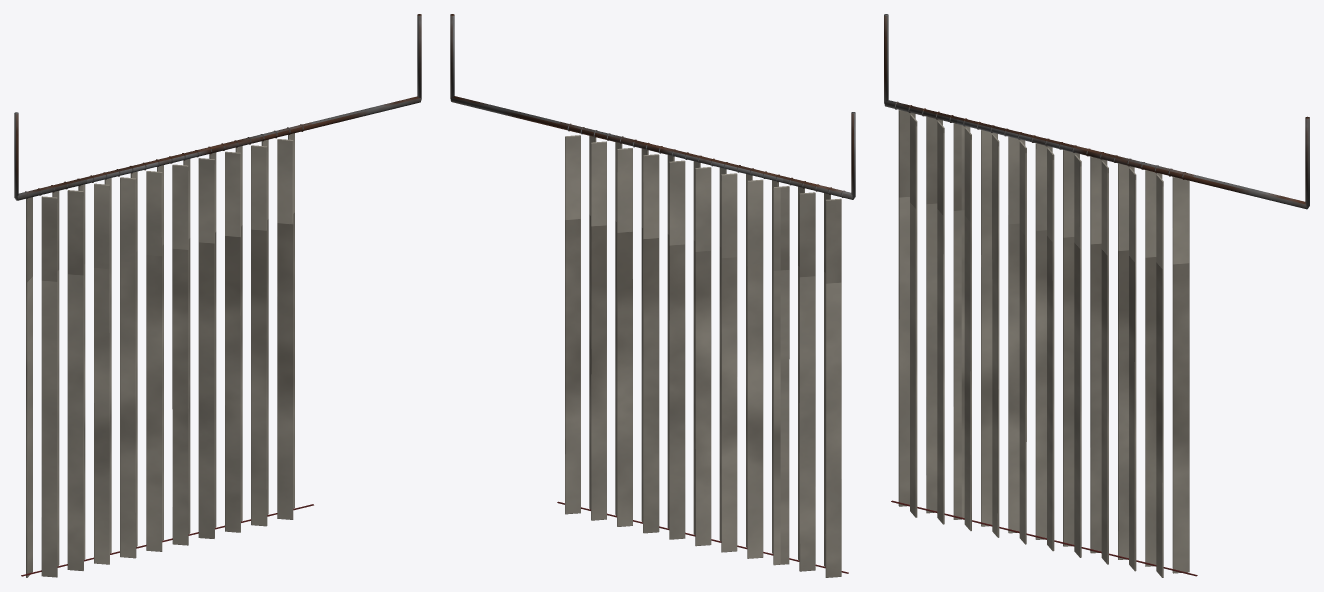
The model's file is H09_privacy_curtain_rail.glb.
The picture shows the model from 3 angles, left to right: view 1: azimuth 30°, elevation 25°; view 2: azimuth 150°, elevation 25°; view 3: azimuth 330°, elevation 25°; orthographic projection. The views are drawn at different scales.
Parts seen in each view (by area): view 1: H09_privacy_curtain_rail; view 2: H09_privacy_curtain_rail; view 3: H09_privacy_curtain_rail.
Boxes of the visible parts, x1,y1,x2,y2 form: H09_privacy_curtain_rail: [14, 14, 421, 577]; H09_privacy_curtain_rail: [450, 14, 855, 577]; H09_privacy_curtain_rail: [884, 14, 1309, 577].
Bounding box in the file's own units: 1.82 × 2 × 0.0987.
Materials: 3 (3 with a texture image).
